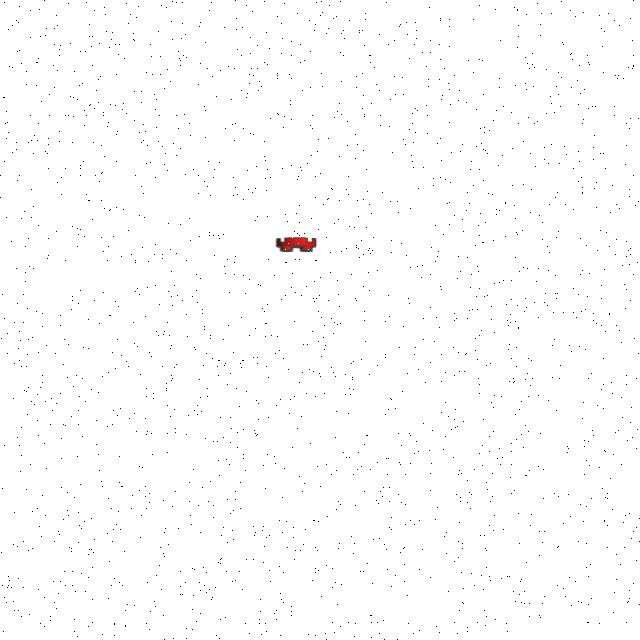4032a: (272, 233, 320, 256)
